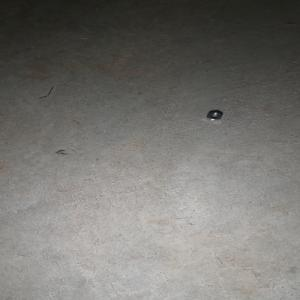Nut: (206, 110, 223, 120)
